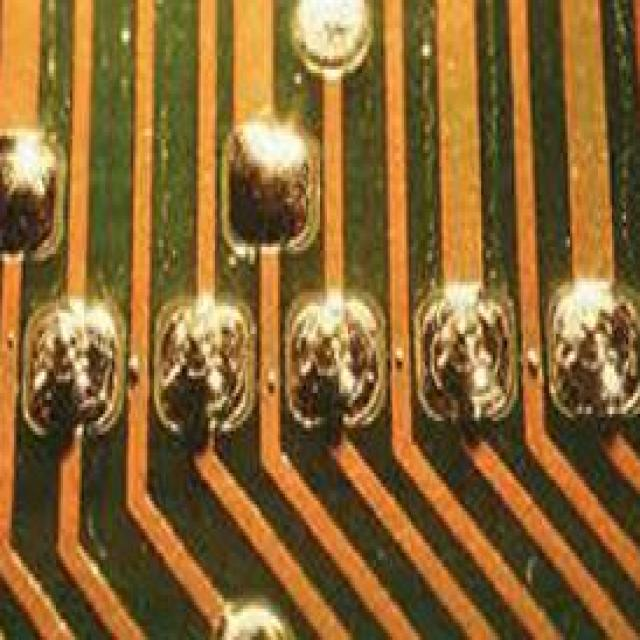redundant: (230, 115, 308, 243), (0, 130, 56, 250)
